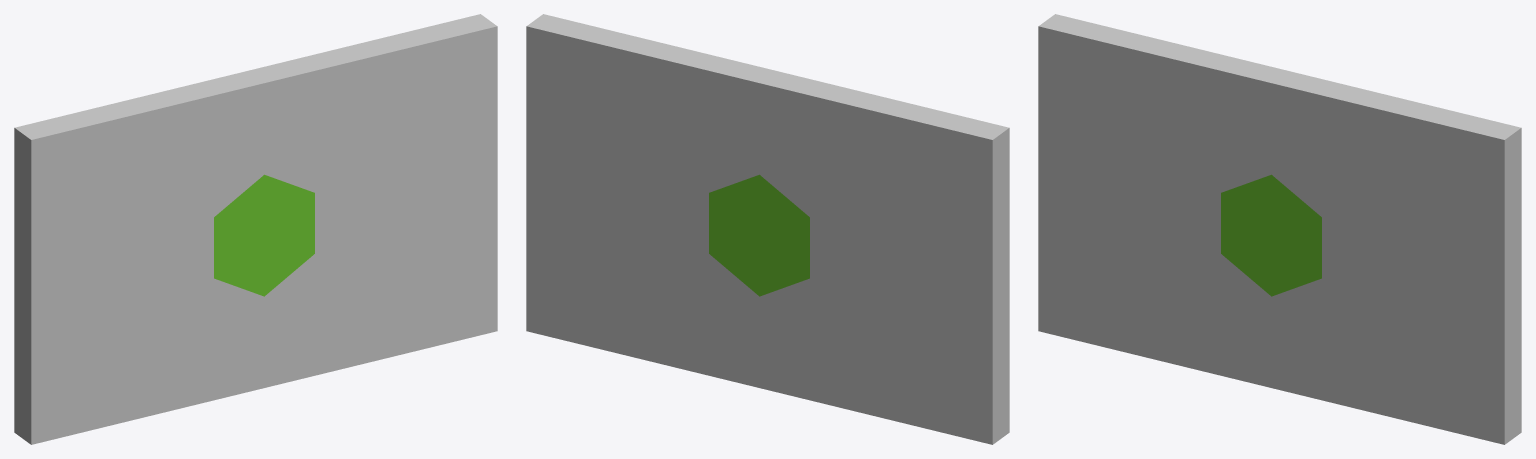
The model's file is SM_TrainStationWindow.fbx.
3 renders of one model, left to right at view 1: azimuth 30°, elevation 25°; view 2: azimuth 150°, elevation 25°; view 3: azimuth 330°, elevation 25°, orthographic.
Parts seen in each view (by area): view 1: Cube; view 2: Cube; view 3: Cube.
Boxes of the visible parts, x1,y1,x2,y2 form: Cube: [14, 14, 497, 444]; Cube: [526, 14, 1009, 444]; Cube: [1038, 14, 1521, 444].
Bounding box in the file's own units: 800 × 500 × 50.
